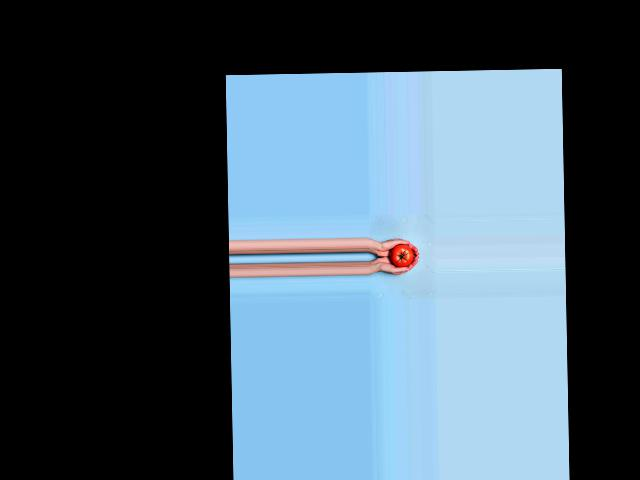tomato: (389, 244, 413, 268)
